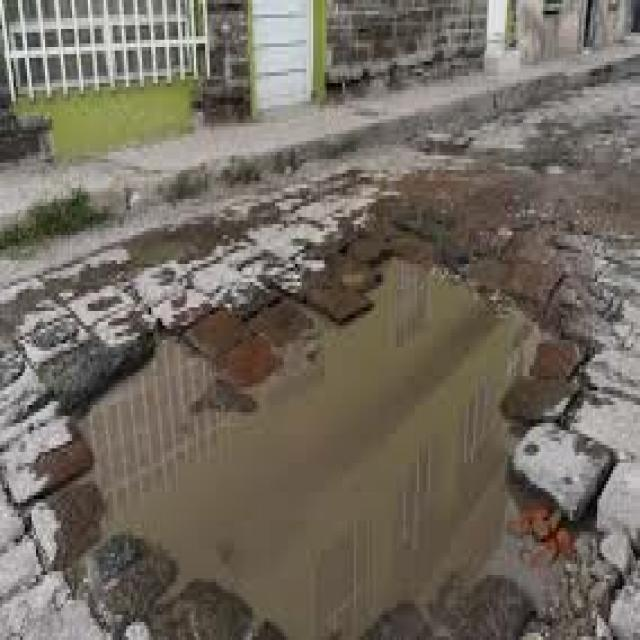Pothole: (54, 224, 604, 640)
